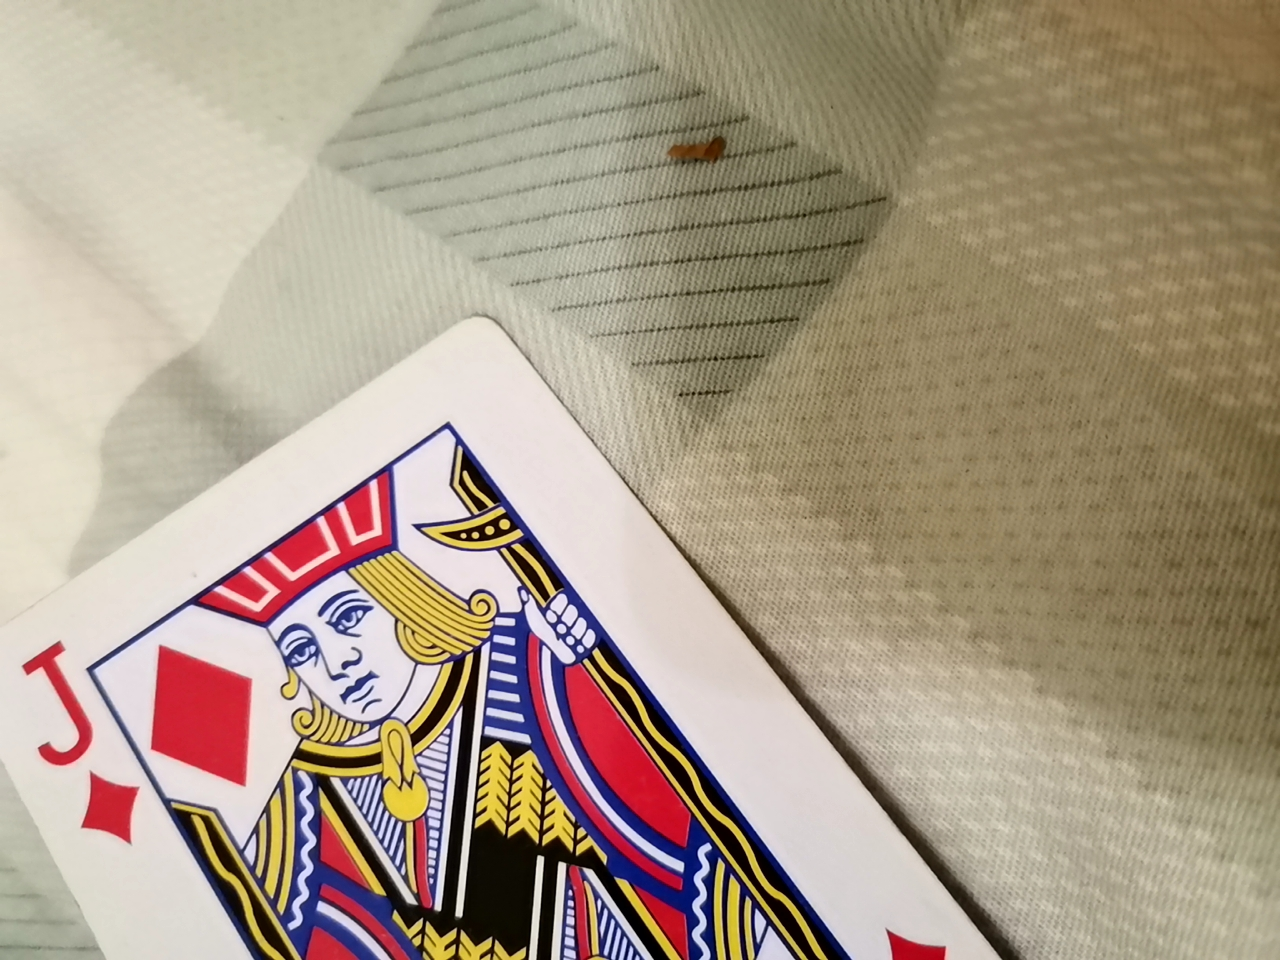fk j: (13, 314, 1138, 949)
